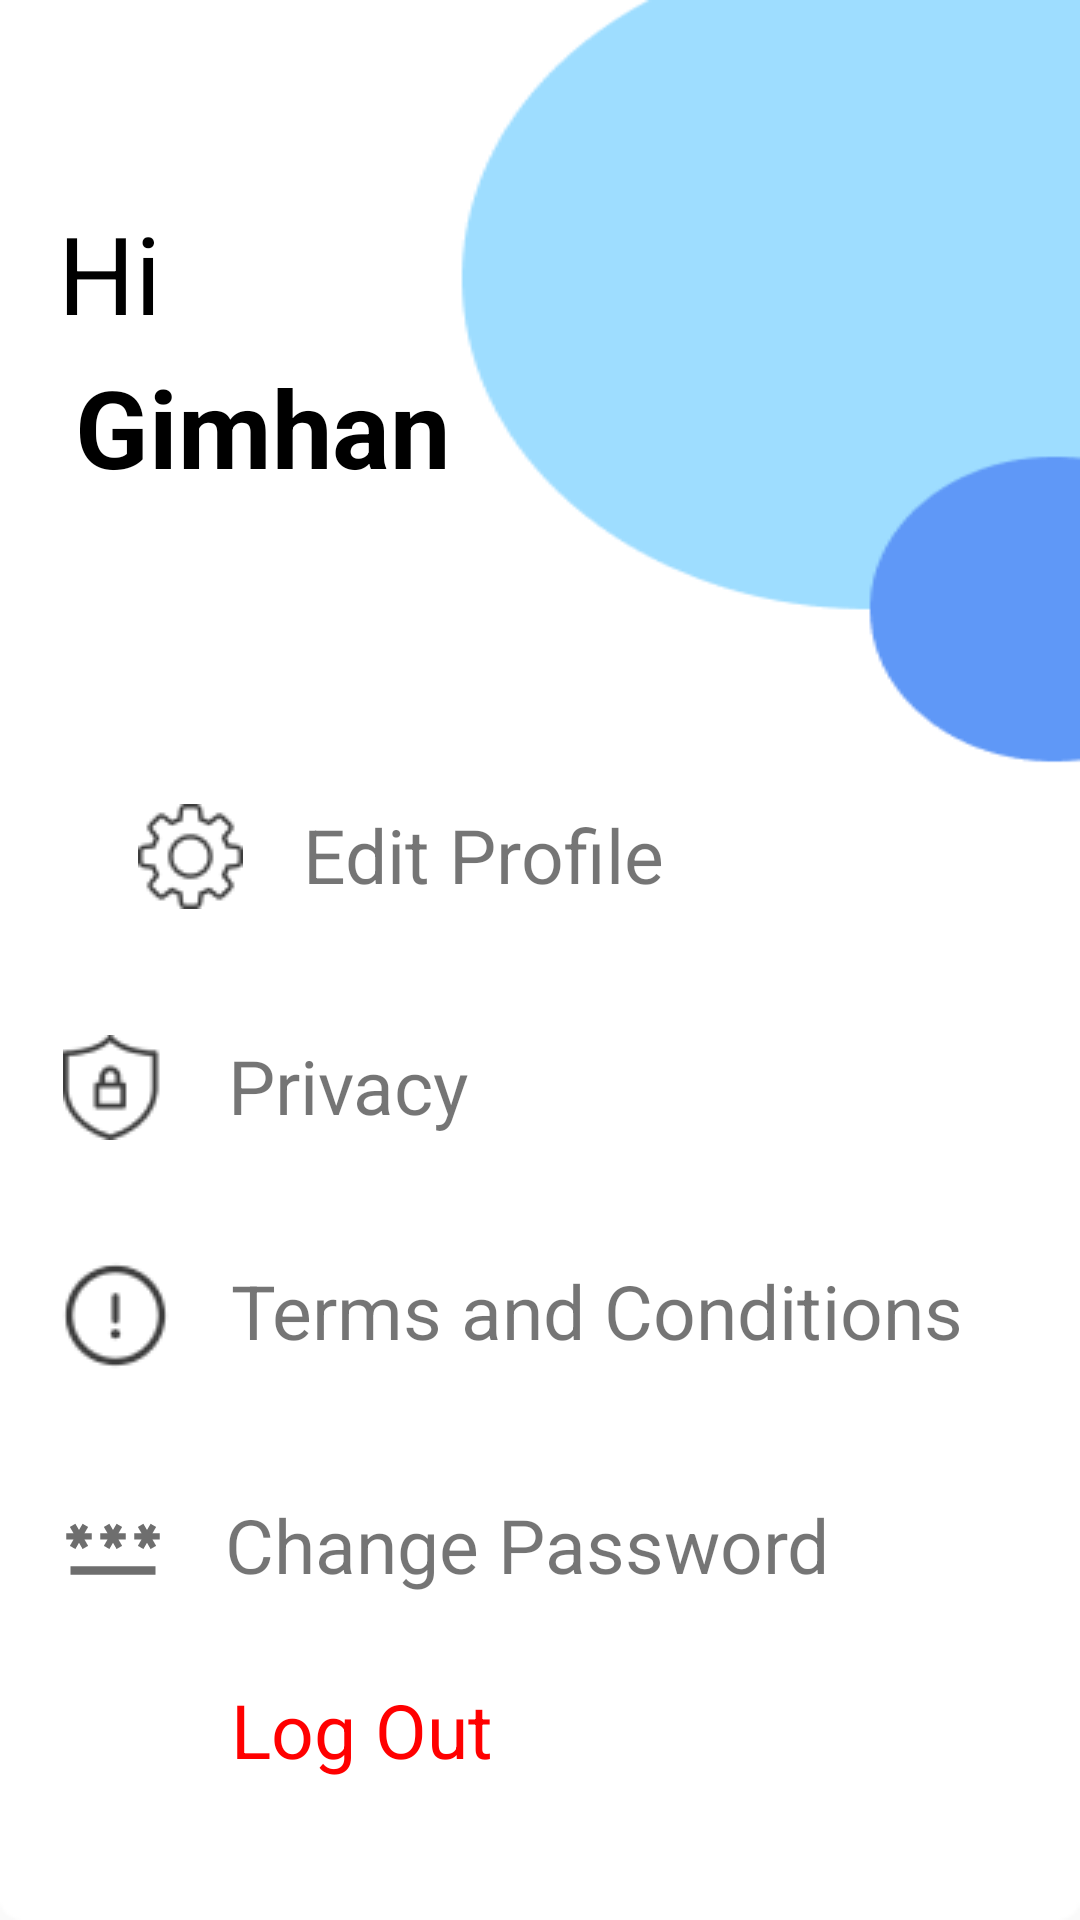

Where to tap for icons on this 1080w x 1920h app screen, as (x,y):
danger: (115,1315)
settings: (190,856)
